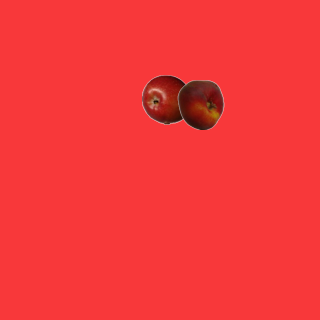Apple Braeburn: (141, 74, 191, 124)
Nectarine Flat: (175, 79, 225, 129)
